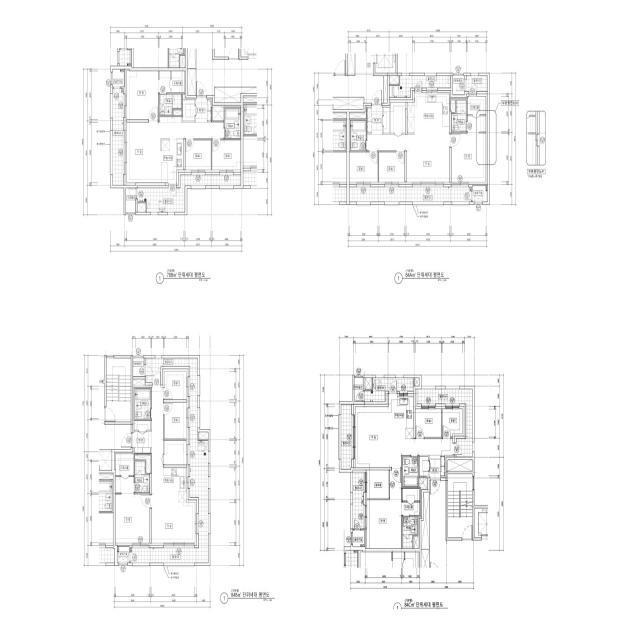space_balconi: (130, 358, 208, 563), (138, 175, 241, 212), (417, 389, 472, 457), (349, 187, 471, 202), (389, 76, 451, 97), (365, 378, 414, 402), (113, 88, 123, 185), (341, 405, 351, 470), (353, 472, 363, 529), (466, 76, 487, 91)
space_bedroom: (367, 470, 401, 548), (452, 133, 486, 182), (116, 494, 150, 543), (127, 71, 158, 119), (349, 152, 378, 182), (212, 140, 241, 170), (164, 403, 186, 439), (379, 152, 405, 182), (185, 140, 211, 170), (415, 409, 441, 437), (164, 371, 186, 400), (442, 409, 462, 437)
space_dressroom: (115, 454, 134, 493), (468, 96, 486, 132), (159, 71, 184, 93), (402, 489, 419, 515)
space_front: (367, 105, 383, 134), (132, 432, 152, 454), (196, 97, 211, 122), (429, 455, 445, 476)
space_kitchen: (407, 93, 450, 133), (389, 394, 413, 439), (160, 139, 183, 183), (163, 468, 186, 503)
space_living_room: (152, 387, 195, 543), (127, 117, 224, 183), (355, 407, 453, 467), (367, 134, 450, 182)
space_multipurpose_space: (367, 470, 389, 498)
space_other: (164, 440, 186, 465), (421, 492, 429, 549), (391, 102, 405, 133), (135, 455, 151, 473), (448, 460, 472, 471), (183, 100, 195, 121), (126, 188, 136, 212), (354, 378, 363, 402), (453, 76, 464, 95), (133, 358, 144, 376), (419, 457, 428, 476), (134, 420, 151, 430), (212, 107, 224, 121), (384, 108, 390, 133), (349, 114, 366, 119), (384, 76, 387, 103), (389, 76, 399, 84), (419, 478, 427, 488), (365, 378, 372, 389), (138, 203, 146, 212), (133, 379, 145, 385), (199, 432, 208, 439), (451, 100, 455, 112), (414, 536, 418, 548), (173, 110, 182, 115), (415, 378, 419, 386)
space_outdoor_room: (472, 186, 487, 202), (113, 69, 124, 87), (117, 547, 129, 563), (353, 530, 364, 547)
space_staircase: (106, 358, 131, 422), (448, 474, 472, 538)
space_toilet: (350, 120, 366, 151), (225, 108, 241, 139), (159, 94, 182, 115), (402, 457, 418, 487), (135, 389, 151, 419), (135, 461, 150, 493), (402, 517, 417, 548), (452, 100, 466, 132)
